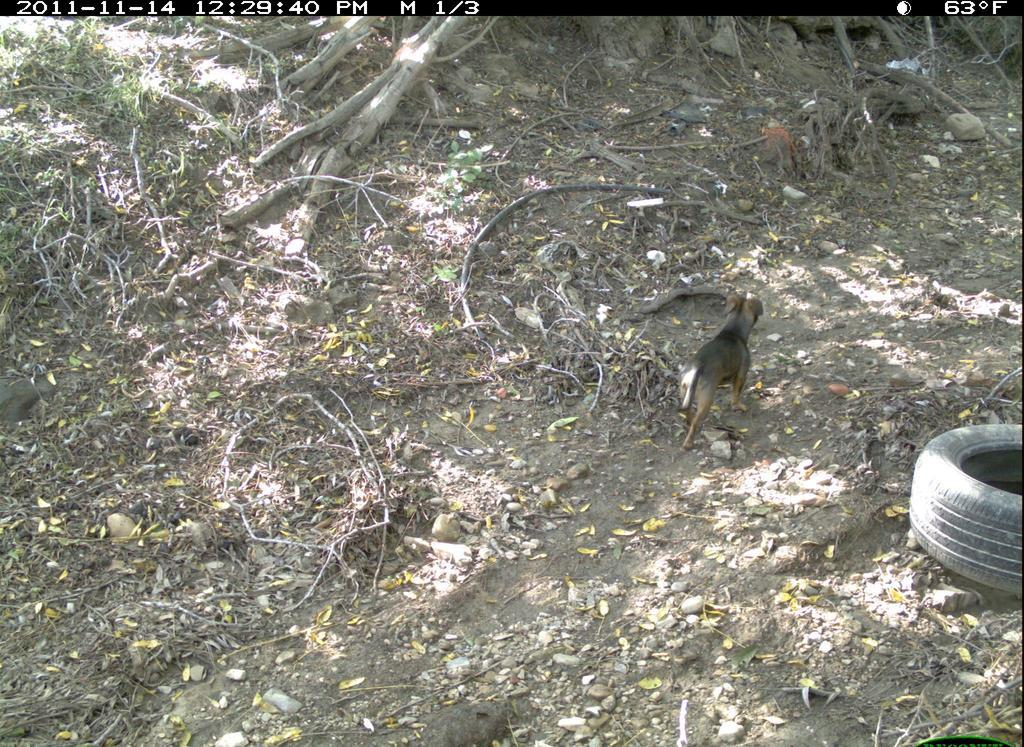dog: (671, 289, 767, 454)
